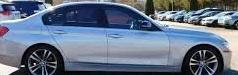Cars: (1, 5, 232, 75)
